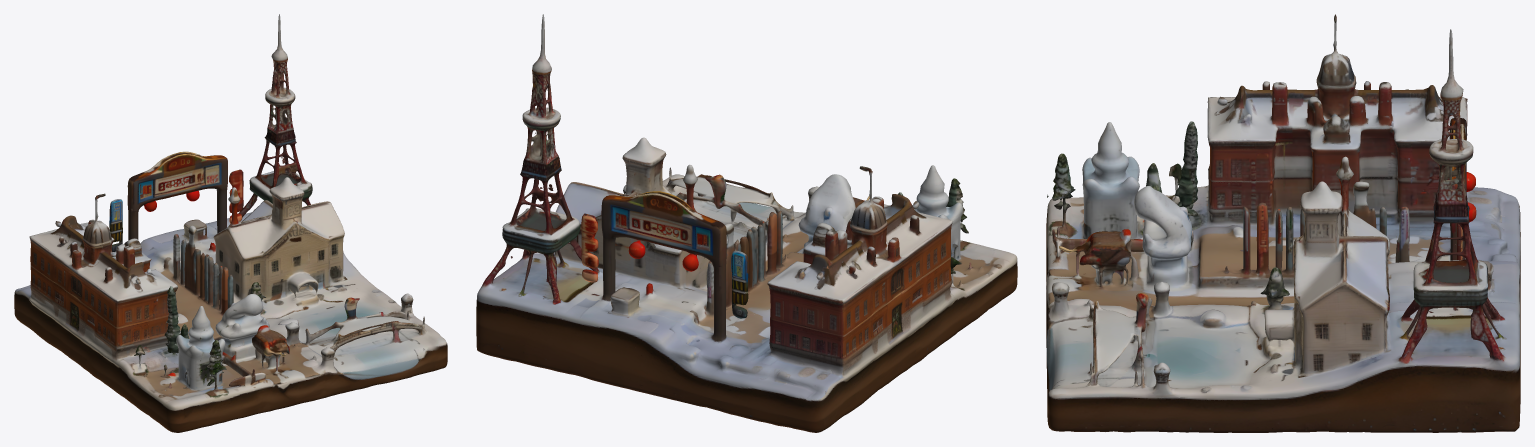
The model's file is Sappora_Japan.glb.
3 views of the same model, side by side, from view 1: azimuth 30°, elevation 25°; view 2: azimuth 150°, elevation 25°; view 3: azimuth 270°, elevation 25° (orthographic). The views are drawn at different scales.
Parts seen in each view (by area): view 1: tripo_node_33eca82d-ce9e-4ad8-997d-43b9a0c16e28; view 2: tripo_node_33eca82d-ce9e-4ad8-997d-43b9a0c16e28; view 3: tripo_node_33eca82d-ce9e-4ad8-997d-43b9a0c16e28.
Part boxes in pixels (box(x1,y1,x2,y2)): tripo_node_33eca82d-ce9e-4ad8-997d-43b9a0c16e28: box(14, 14, 447, 432); tripo_node_33eca82d-ce9e-4ad8-997d-43b9a0c16e28: box(476, 14, 1017, 432); tripo_node_33eca82d-ce9e-4ad8-997d-43b9a0c16e28: box(1046, 14, 1520, 432).
Size of the model in its own units: 0.9912 by 0.8835 by 0.9956.
1 material, 1 textured.
